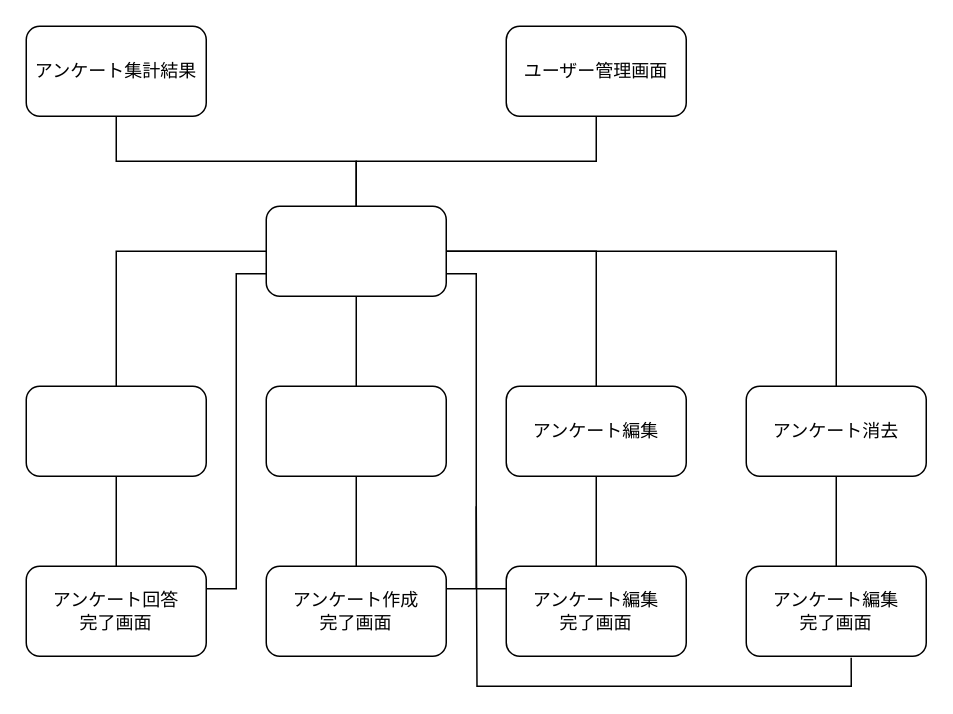
This 953x714 diagram has some shape labels left out. The centre of each missing label's shape, as x and y in pixels:
"アンケート一覧 （トップ画面）" goes at point (355, 250).
"アンケート作成" goes at point (355, 430).
"アンケート回答" goes at point (115, 430).
